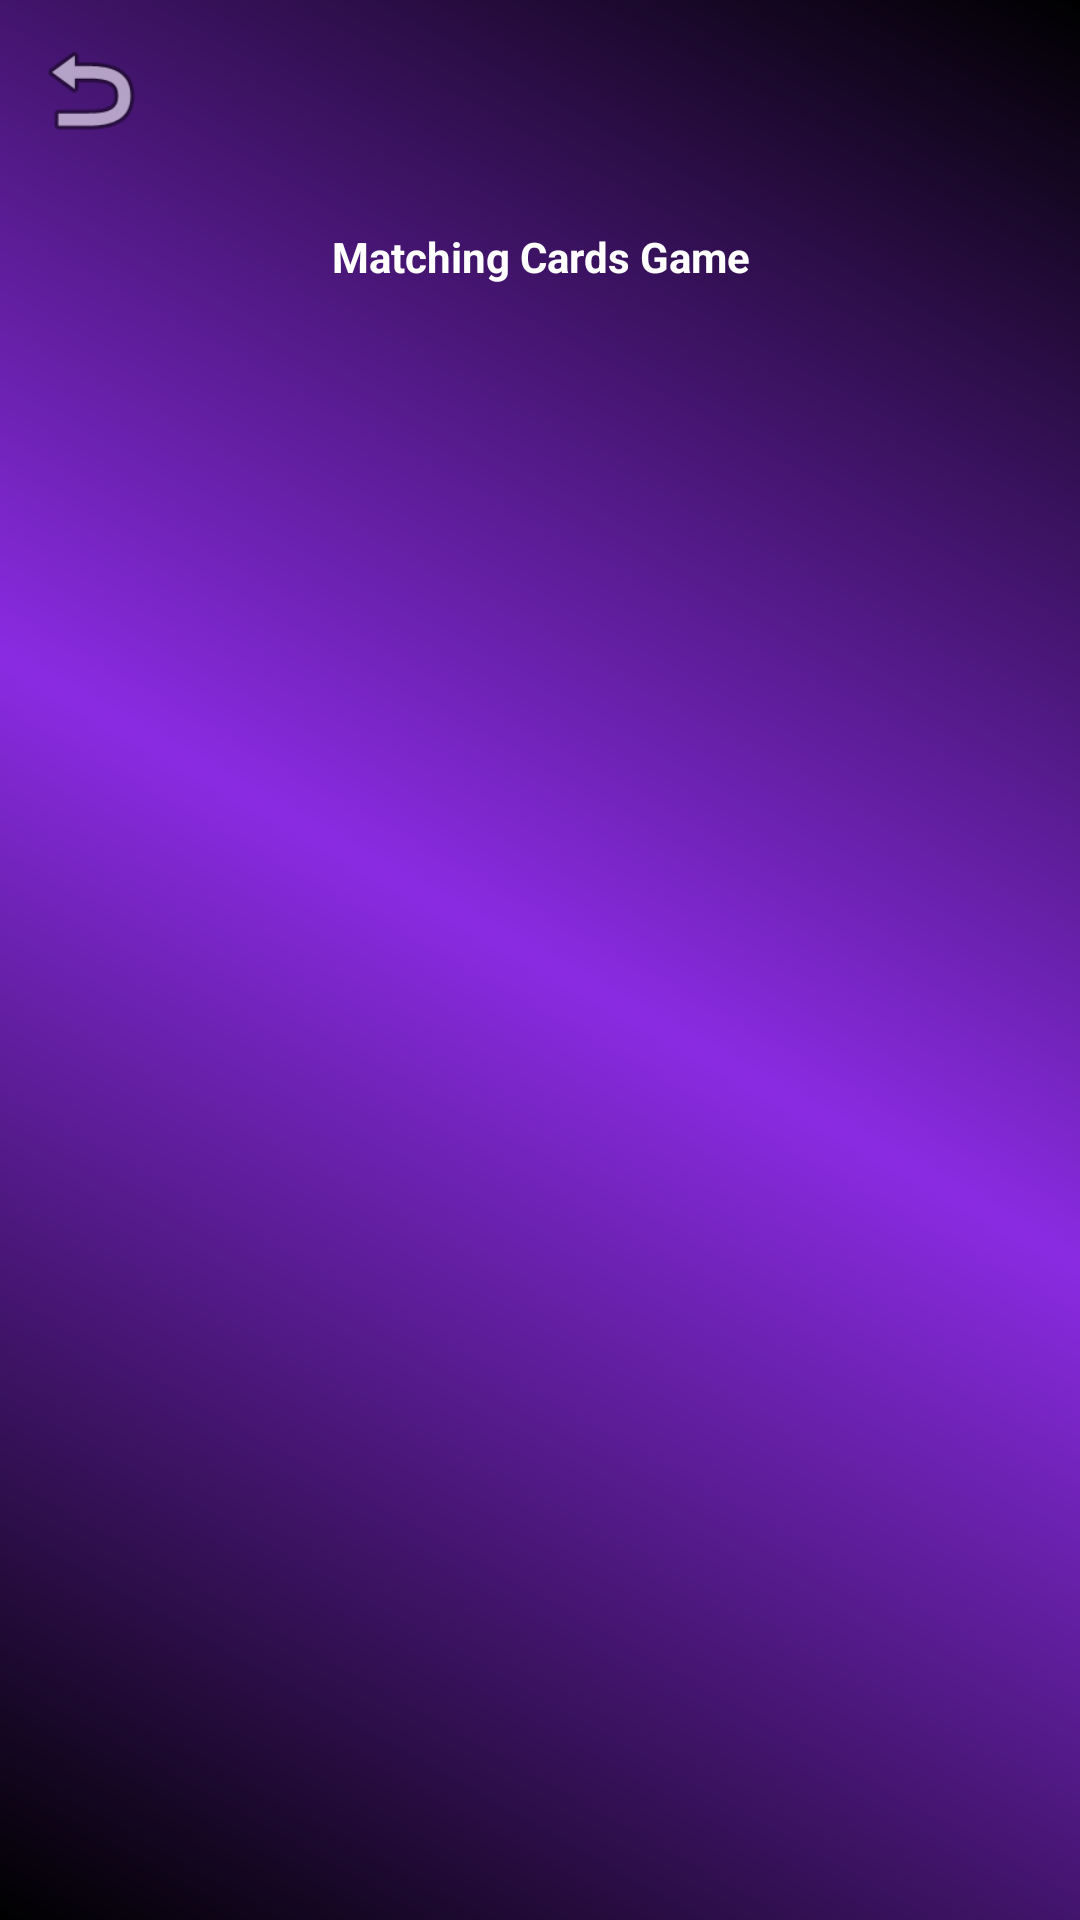

Where icons sit on this 1080px x 1920px app screen, as [x1, y1, x2, y2]:
revert: [49, 52, 134, 129]
